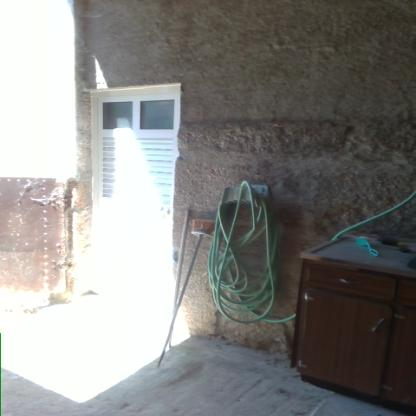closed: (64, 77, 204, 320)
